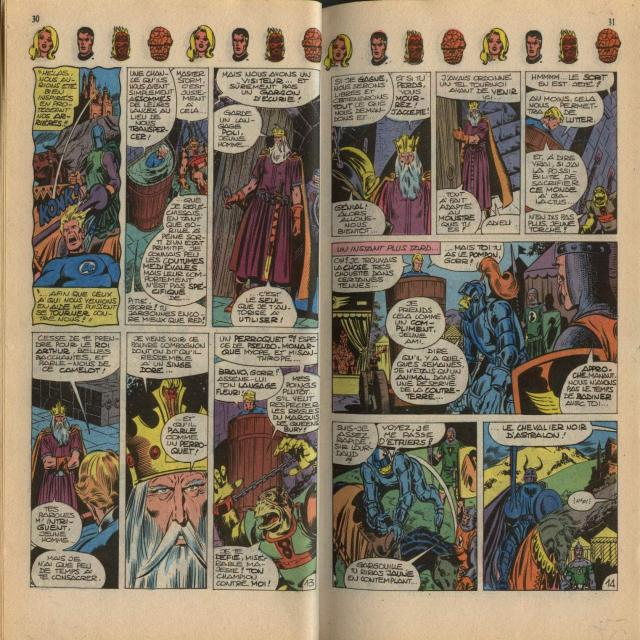comic_panel: (331, 240, 618, 417), (210, 65, 320, 331), (212, 328, 320, 592), (331, 420, 479, 592), (30, 66, 122, 327), (29, 330, 121, 590), (482, 421, 618, 591), (124, 330, 211, 591), (124, 67, 210, 328), (331, 70, 432, 238), (524, 69, 619, 236), (435, 70, 521, 236)
